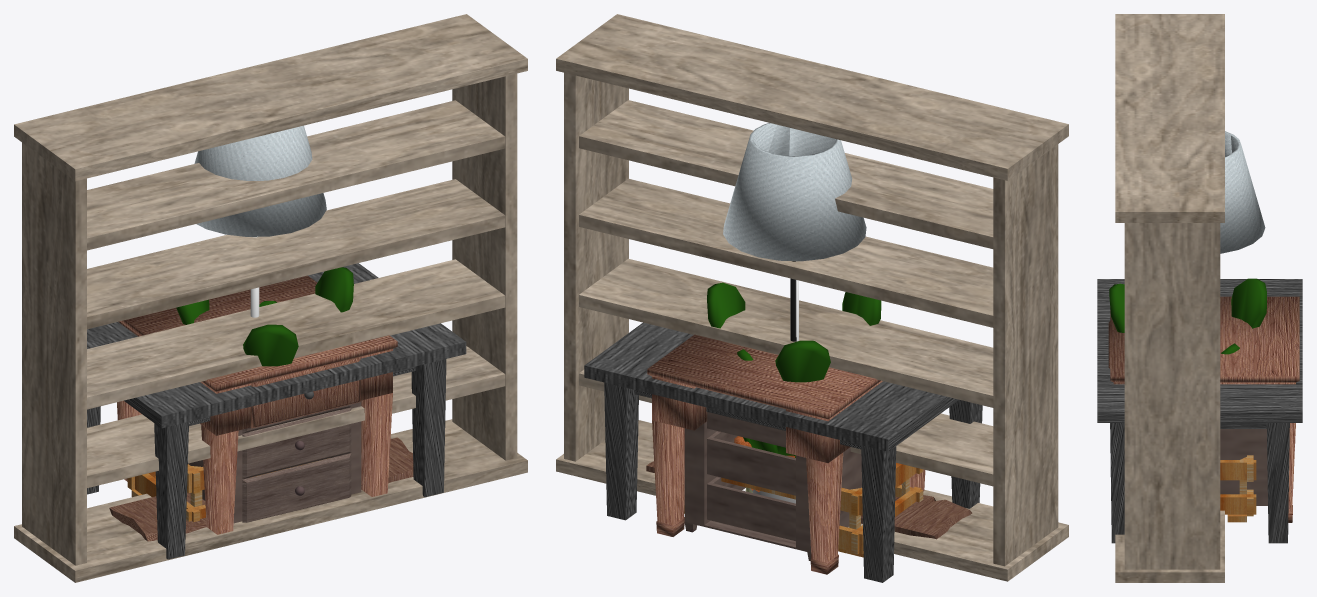
Rendered from Props.fbx.
The picture shows the model from 3 angles, left to right: view 1: azimuth 30°, elevation 25°; view 2: azimuth 150°, elevation 25°; view 3: azimuth 270°, elevation 25°; orthographic projection. The views are drawn at different scales.
Parts seen in each view (by area): view 1: Estanteria, Mesa, Mesita, MesitaNoche, LamparaPie, Planta01, MesitaCajon, Estante_Base, CajaPalet; view 2: Estanteria, Mesa, Mesita, LamparaPie, MesitaNoche, Planta01, CajaPalet, Estante_Base, MesitaNocheCajon; view 3: Estanteria, Mesa, Mesita, LamparaPie, MesitaNoche, Planta01, CajaPalet.
Boxes of the visible parts, x1,y1,x2,y2 form: Estanteria: [14, 14, 527, 582]; Mesa: [87, 263, 466, 559]; Mesita: [117, 275, 397, 534]; MesitaNoche: [188, 401, 361, 523]; LamparaPie: [194, 125, 326, 317]; Planta01: [176, 267, 353, 366]; MesitaCajon: [251, 356, 360, 428]; Estante_Base: [109, 437, 413, 541]; CajaPalet: [127, 458, 329, 521]; Estanteria: [556, 14, 1068, 581]; Mesa: [584, 322, 982, 582]; Mesita: [647, 334, 925, 574]; LamparaPie: [723, 123, 866, 341]; MesitaNoche: [684, 421, 861, 560]; Planta01: [707, 282, 881, 457]; CajaPalet: [684, 463, 923, 557]; Estante_Base: [646, 461, 972, 539]; MesitaNocheCajon: [707, 412, 785, 447]; Estanteria: [1115, 14, 1224, 582]; Mesa: [1097, 279, 1302, 543]; Mesita: [1110, 296, 1299, 522]; LamparaPie: [1220, 131, 1265, 253]; MesitaNoche: [1220, 429, 1267, 505]; Planta01: [1109, 278, 1266, 354]; CajaPalet: [1220, 455, 1256, 522].
Size of the model in its own units: 308 by 279 by 135.
Materials: 31 (29 with a texture image).
